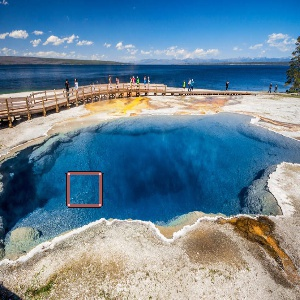square: (64, 169, 105, 209)
